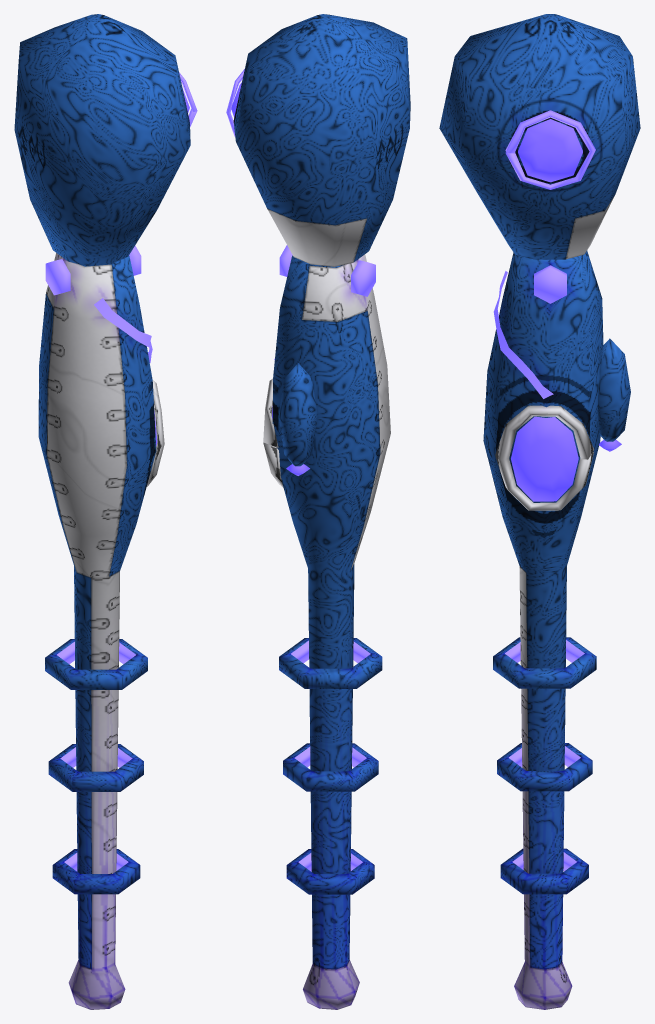
The model's file is RightPlasmaSniperArmZ.glb.
3 views of the same model, side by side, from view 1: azimuth 30°, elevation 25°; view 2: azimuth 150°, elevation 25°; view 3: azimuth 270°, elevation 25° (orthographic).
Visible parts, largest first — view 1: RightPlasmaSniperArmZ_Fore, RightPlasmaSniperArmZ_Upper; view 2: RightPlasmaSniperArmZ_Fore, RightPlasmaSniperArmZ_Upper; view 3: RightPlasmaSniperArmZ_Fore, RightPlasmaSniperArmZ_Upper.
Part boxes in pixels (x1,y1,x2,y2): RightPlasmaSniperArmZ_Fore: [38, 245, 164, 1009]; RightPlasmaSniperArmZ_Upper: [14, 14, 197, 266]; RightPlasmaSniperArmZ_Fore: [263, 245, 390, 1009]; RightPlasmaSniperArmZ_Upper: [226, 14, 410, 266]; RightPlasmaSniperArmZ_Fore: [483, 250, 630, 1009]; RightPlasmaSniperArmZ_Upper: [439, 14, 640, 259].
Size of the model in its own units: 4.38 by 28.3 by 5.25.
Materials: 5 (3 with a texture image).
